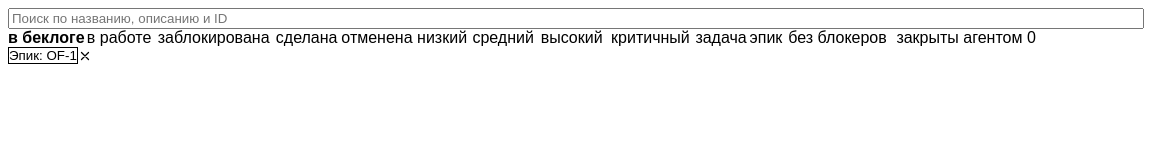
Test case: тулбар фильтров › фильтр по эпику виден и снимается, даже когда в проекте нет эпиков
This screenshot has width=1152, height=160.
Expected: the button "Эпик: OF-1" is shown, [8,47,78,64]
Click the button named "Сбросить эпик".
click(85, 56)  # box [78,48,92,62]
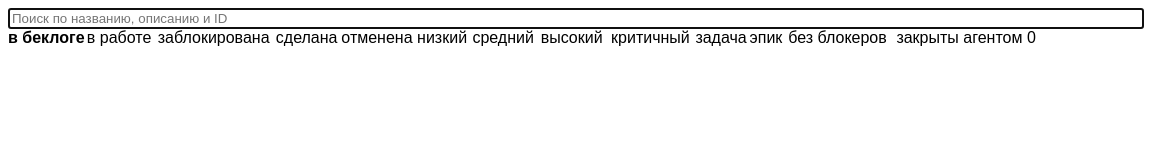
Now the button "Эпик:" is gone
